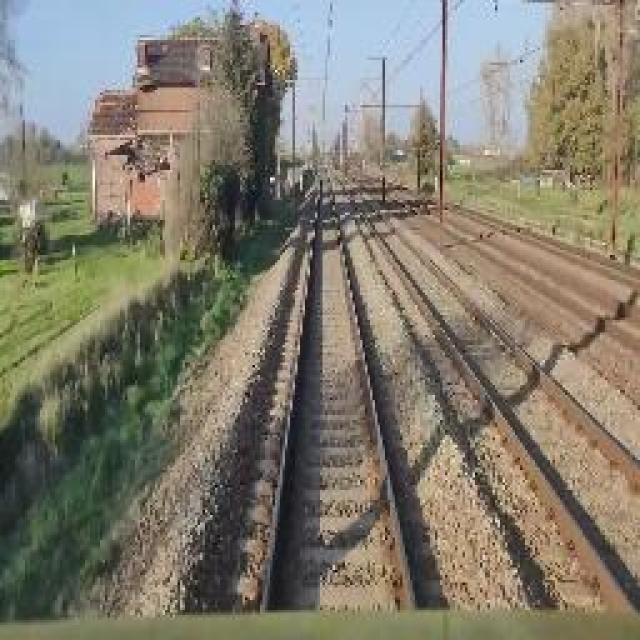rail: (329, 165, 640, 612), (205, 160, 449, 612)
